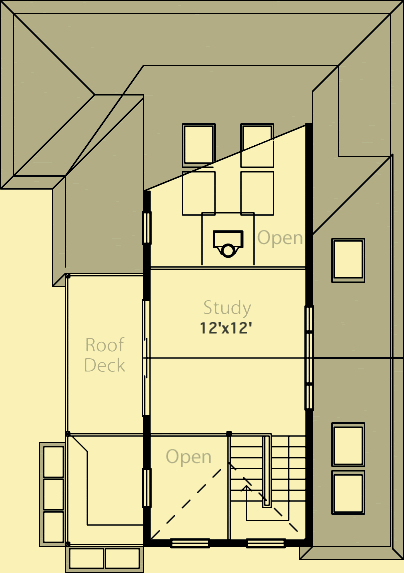stairs: (228, 430, 308, 543)
window: (140, 298, 152, 416), (303, 301, 314, 411), (167, 533, 212, 551), (138, 465, 153, 512), (244, 537, 286, 550), (141, 210, 152, 247)
